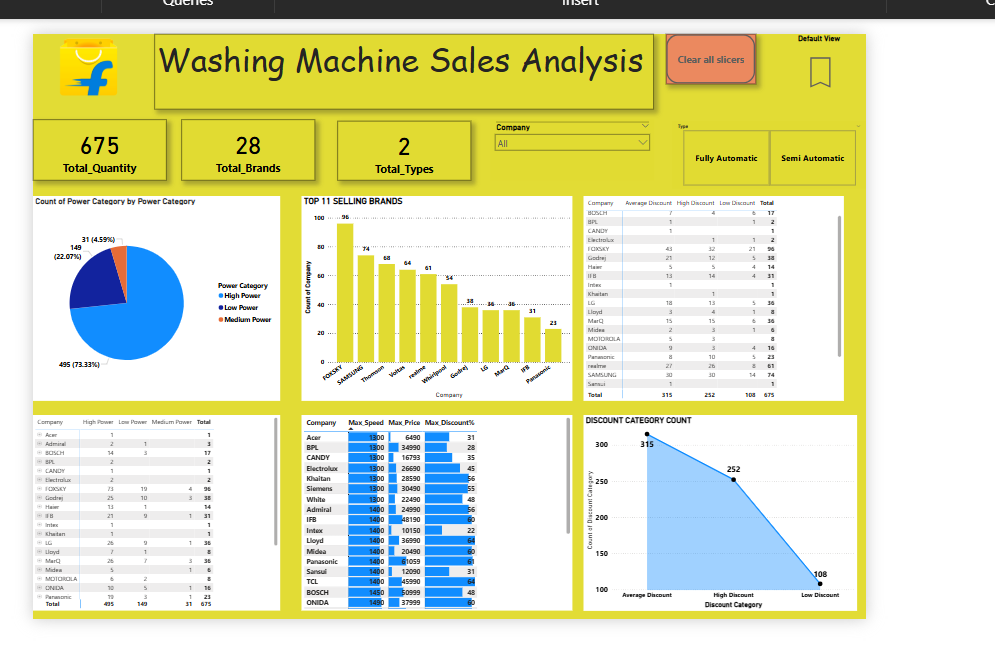

Layout of this report page (visuals, bound fields, positions):
{"tool":"powerbi","page":{"name":"Page 1","canvas":[1850,1300],"ordinal":0},"visuals":[{"type":"textbox","box":[269.2,0,1109.6,167.5],"z":0},{"type":"image","box":[0,0,246.7,146.8],"z":1000},{"type":"card","fields":{"Values":["formeasures.Total_Quantity"]},"box":[0,190.9,296.6,135.1],"z":2000},{"type":"card","fields":{"Values":["formeasures.Total_Brands"]},"box":[328.9,190.9,296.6,135.1],"z":3000},{"type":"card","fields":{"Values":["formeasures.Total_Types"]},"box":[675.5,193.8,296.6,132.2],"z":4000},{"type":"clusteredColumnChart","title":"TOP 11 SELLING BRANDS","fields":{"Category":["updated_flipkart.Company"],"Y":["CountNonNull(updated_flipkart.Company)"]},"box":[596.2,361.2,602,455.2],"z":5000},{"type":"tableEx","fields":{"Values":["updated_flipkart.Company","formeasures.Max_Speed","formeasures.Max_Price","formeasures.Max_Discount%"]},"box":[596.2,845.8,602,434.6],"z":6000},{"type":"slicer","fields":{"Values":["updated_flipkart.Company"]},"box":[1016.1,190.9,364.2,135.1],"z":7000},{"type":"slicer","fields":{"Values":["updated_flipkart.Type"]},"box":[1418.5,193.8,431.7,149.8],"z":8000},{"type":"actionButton","box":[1406.7,0,199.7,111.6],"z":9000},{"type":"actionButton","title":"Default View","box":[1700.4,0,99.9,146.8],"z":10000},{"type":"lineChart","title":"DISCOUNT CATEGORY COUNT","fields":{"Category":["updated_flipkart.Discount Category"],"Y":["CountNonNull(updated_flipkart.Discount Category)"]},"box":[1222,846,608,435],"z":11000},{"type":"pivotTable","fields":{"Rows":["updated_flipkart.Company","updated_flipkart.Category"],"Columns":["updated_flipkart.Power Category"],"Values":["CountNonNull(updated_flipkart.Company)"]},"box":[0,845.8,549.2,434.6],"z":13000},{"type":"pivotTable","fields":{"Rows":["updated_flipkart.Company"],"Columns":["updated_flipkart.Discount Category"],"Values":["CountNonNull(updated_flipkart.Company)"]},"box":[1221.7,361.2,578.6,455.2],"z":14000},{"type":"clusteredBarChart","fields":{"Category":["updated_flipkart.Company"],"Y":["CountNonNull(updated_flipkart.Company)"]},"box":[0,360,550,455],"z":14001}]}

Visuals, with their boxes on the page's 1850x1300 design canvas (x1, y1, x2, y2). These are canvas units, not pixel positions in the 995x665 screenshot, which may show the page scaled, cropped or inside an application window:
textbox: x1=269 y1=0 x2=1379 y2=168
image: x1=0 y1=0 x2=247 y2=147
card - formeasures.Total_Quantity: x1=0 y1=191 x2=297 y2=326
card - formeasures.Total_Brands: x1=329 y1=191 x2=626 y2=326
card - formeasures.Total_Types: x1=676 y1=194 x2=972 y2=326
"TOP 11 SELLING BRANDS" clusteredColumnChart: x1=596 y1=361 x2=1198 y2=816
tableEx - updated_flipkart.Company x formeasures.Max_Speed: x1=596 y1=846 x2=1198 y2=1280
slicer - updated_flipkart.Company: x1=1016 y1=191 x2=1380 y2=326
slicer - updated_flipkart.Type: x1=1418 y1=194 x2=1850 y2=344
actionButton: x1=1407 y1=0 x2=1606 y2=112
"Default View" actionButton: x1=1700 y1=0 x2=1800 y2=147
"DISCOUNT CATEGORY COUNT" lineChart: x1=1222 y1=846 x2=1830 y2=1281
pivotTable - updated_flipkart.Company x updated_flipkart.Category: x1=0 y1=846 x2=549 y2=1280
pivotTable - updated_flipkart.Company x updated_flipkart.Discount Category: x1=1222 y1=361 x2=1800 y2=816
clusteredBarChart - updated_flipkart.Company x CountNonNull(updated_flipkart.Company): x1=0 y1=360 x2=550 y2=815
